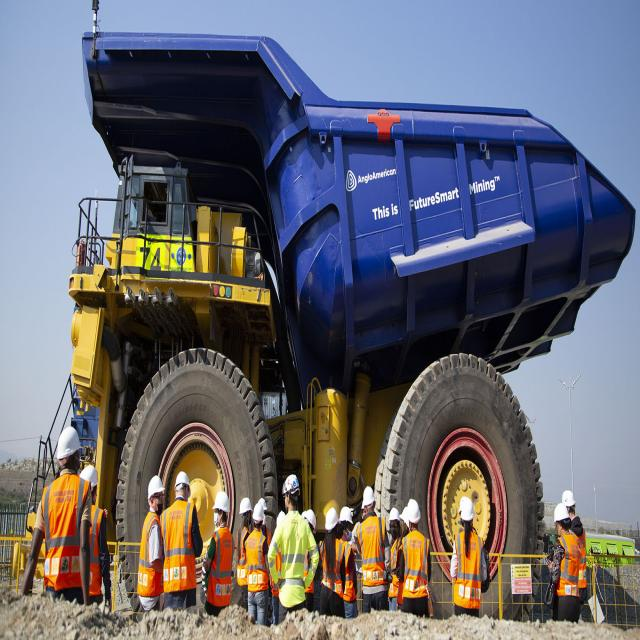dump_truck: (58, 4, 630, 621)
